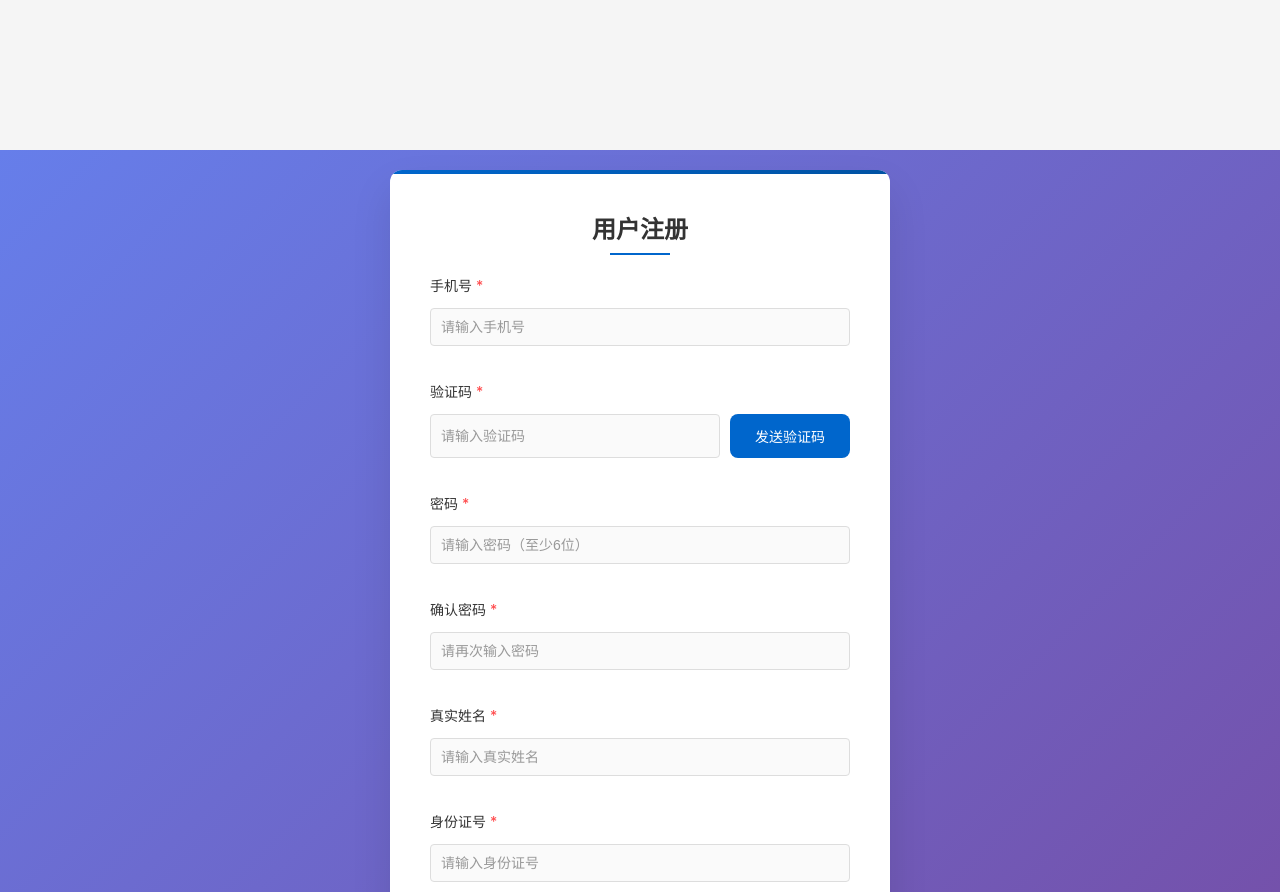
Test case: RegisterPage Component › 应该验证身份证号格式
填写其他必填字段
In the field labelled "手机号": (640, 327) [430, 308, 850, 346], type "13800138000"
In the field labelled "验证码": (575, 436) [430, 414, 720, 458], type "123456"
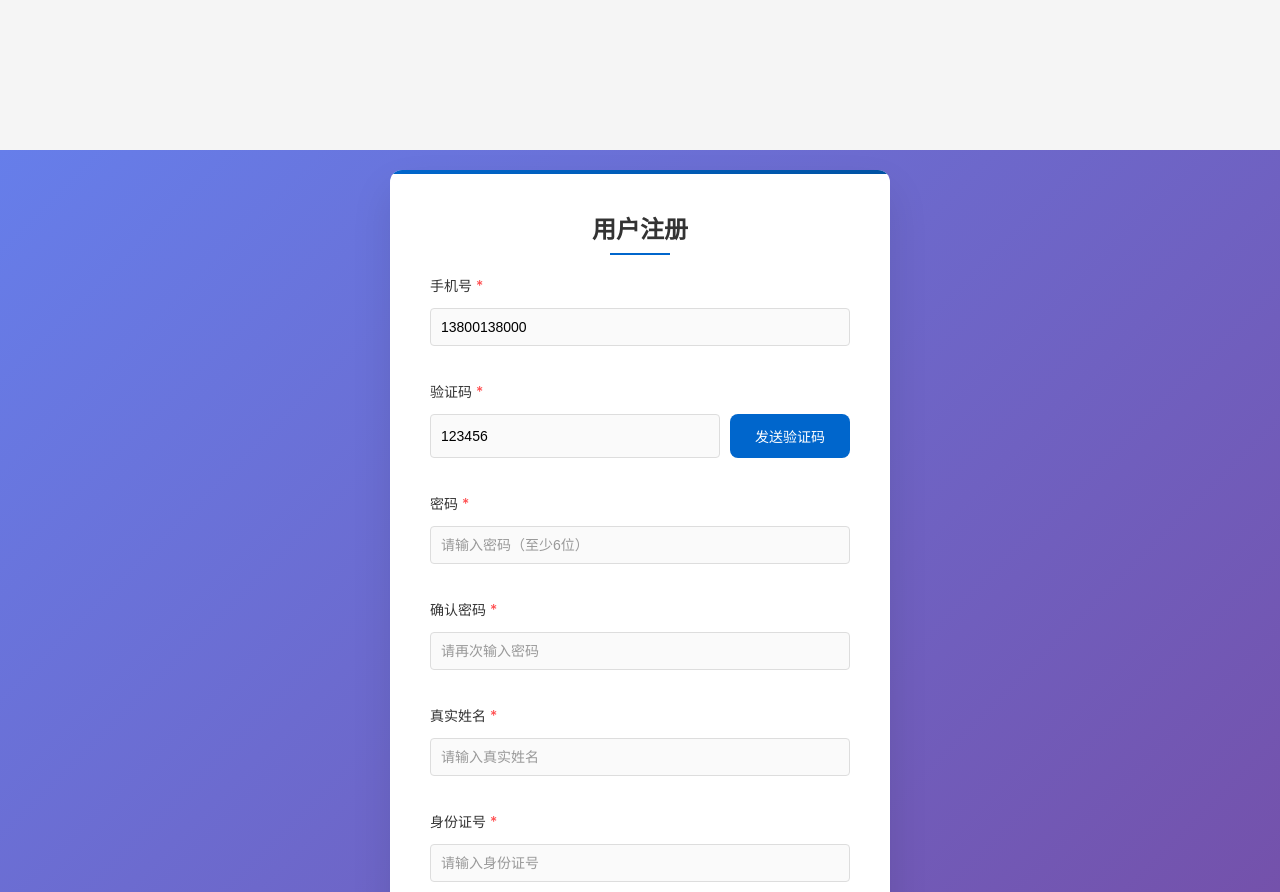
In the password field labelled "密码": (640, 545) [430, 526, 850, 564], type "password123"
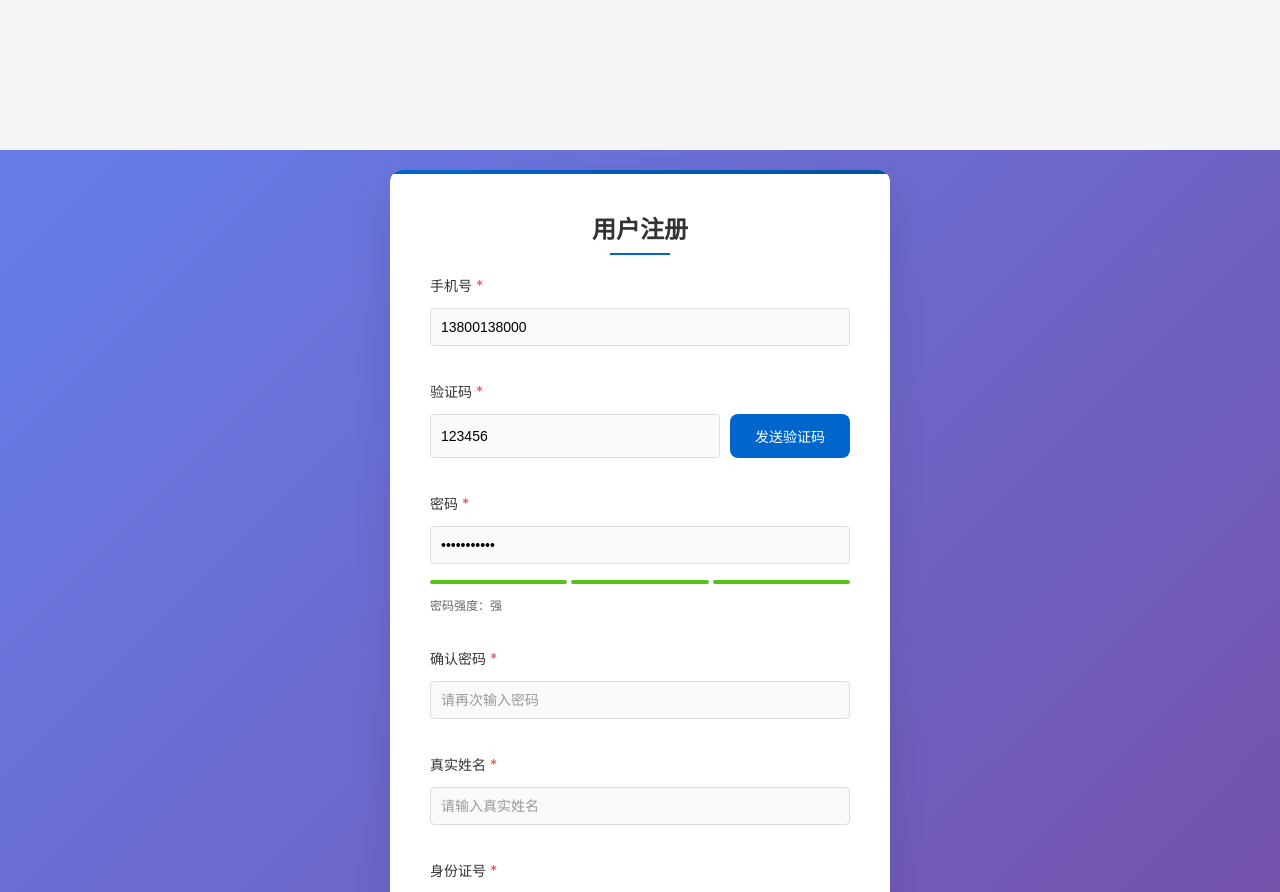
In the password field labelled "确认密码": (640, 700) [430, 681, 850, 719], type "password123"
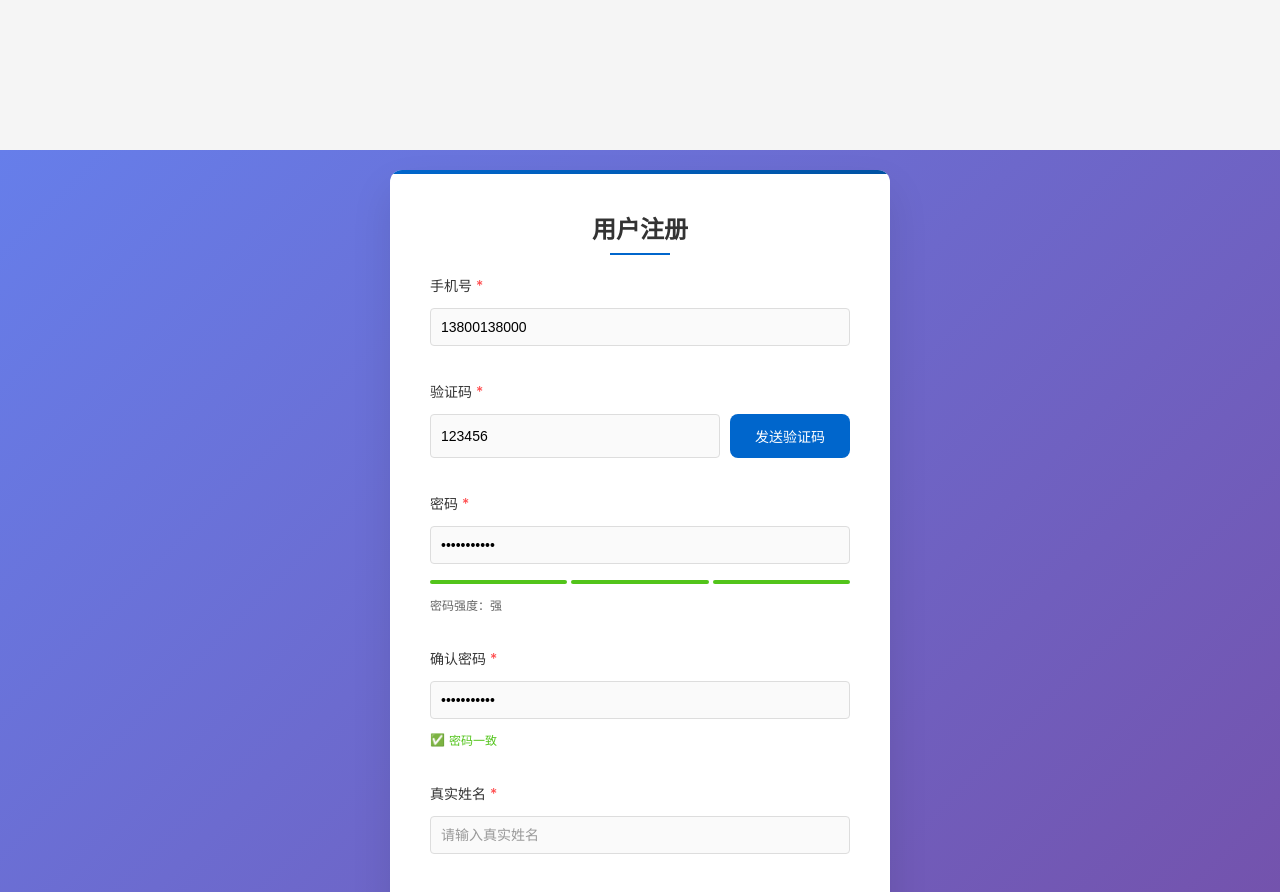
In the field labelled "真实姓名": (640, 835) [430, 816, 850, 854], type "张三"
(page scrolled)
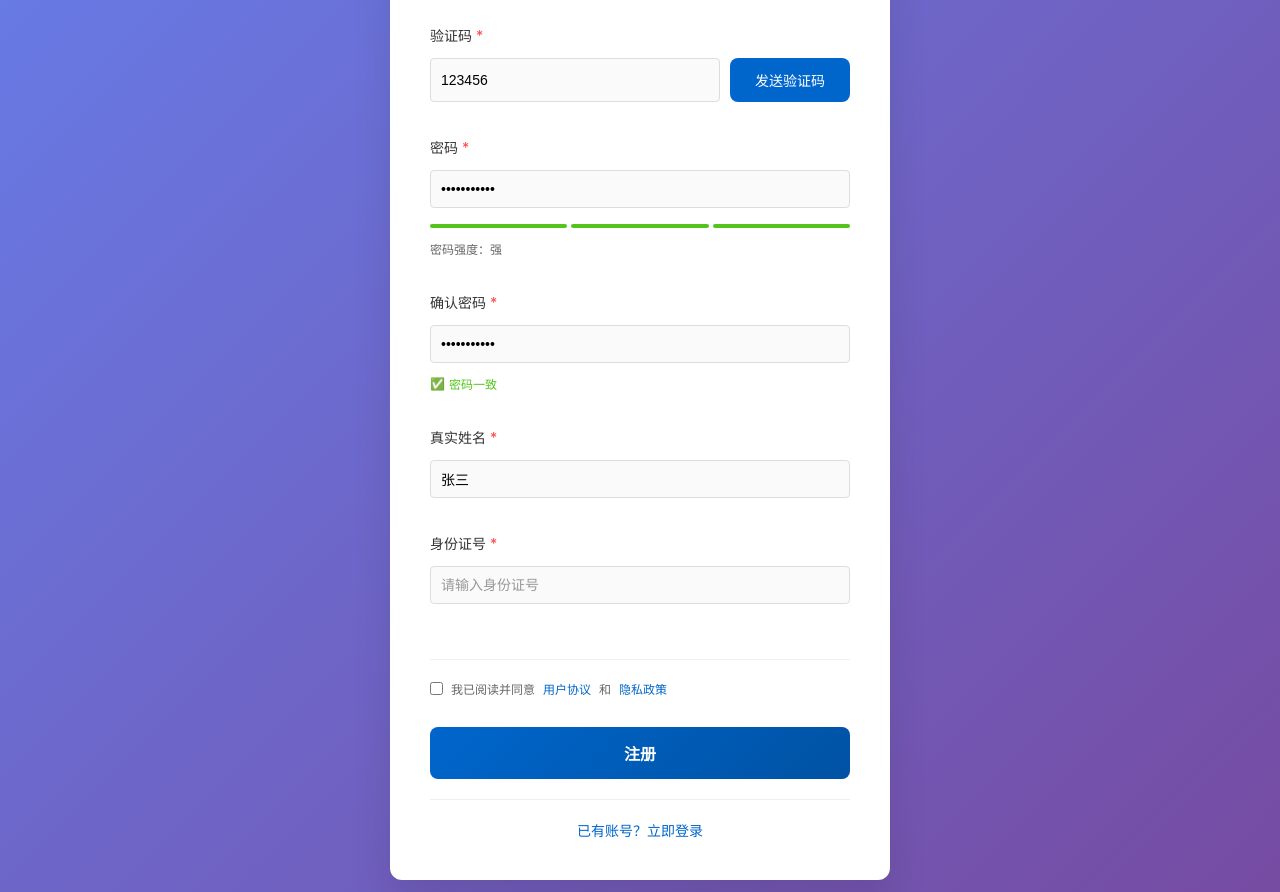
输入无效身份证号
In the field labelled "身份证号": (640, 585) [430, 566, 850, 604], type "123456"
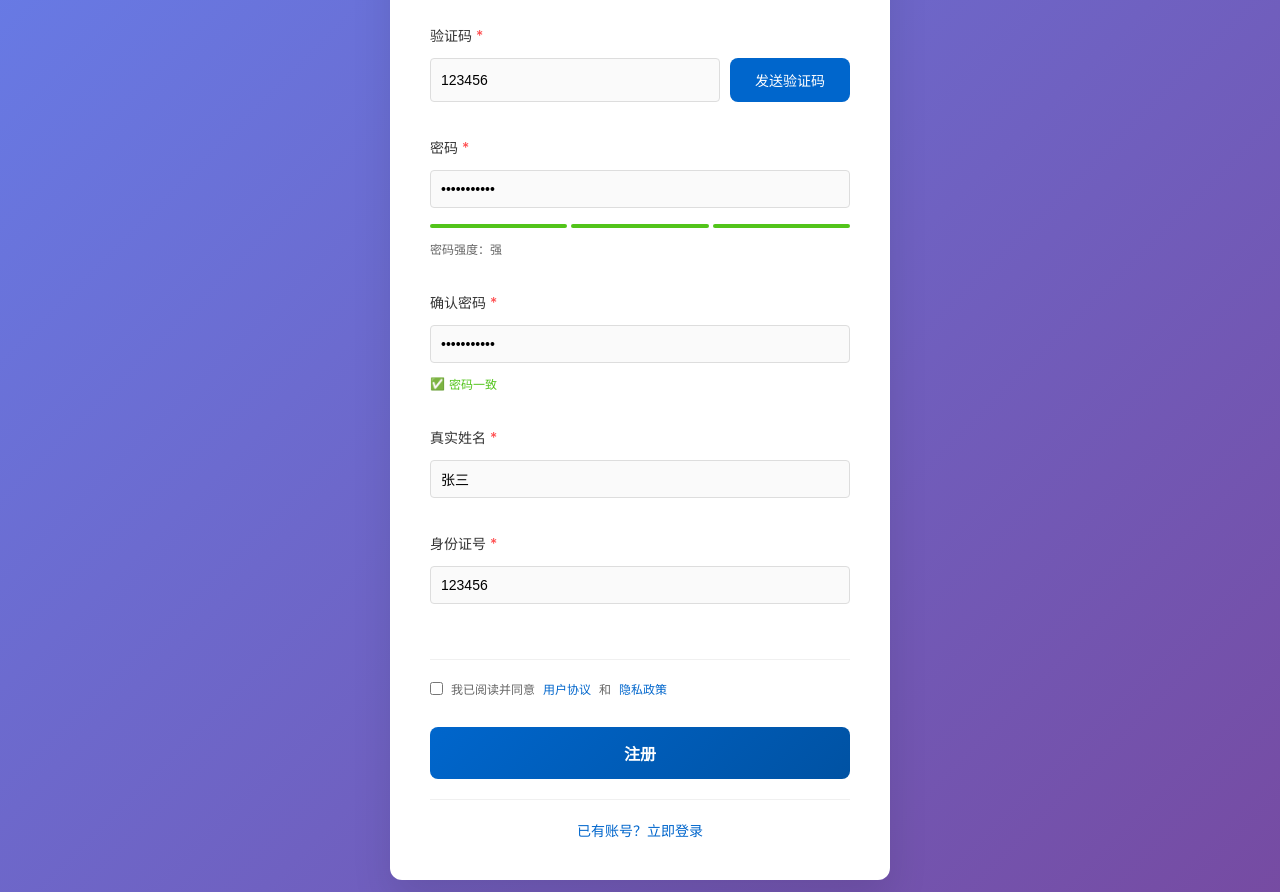
Click the button "注册": (640, 753) [430, 727, 850, 779]
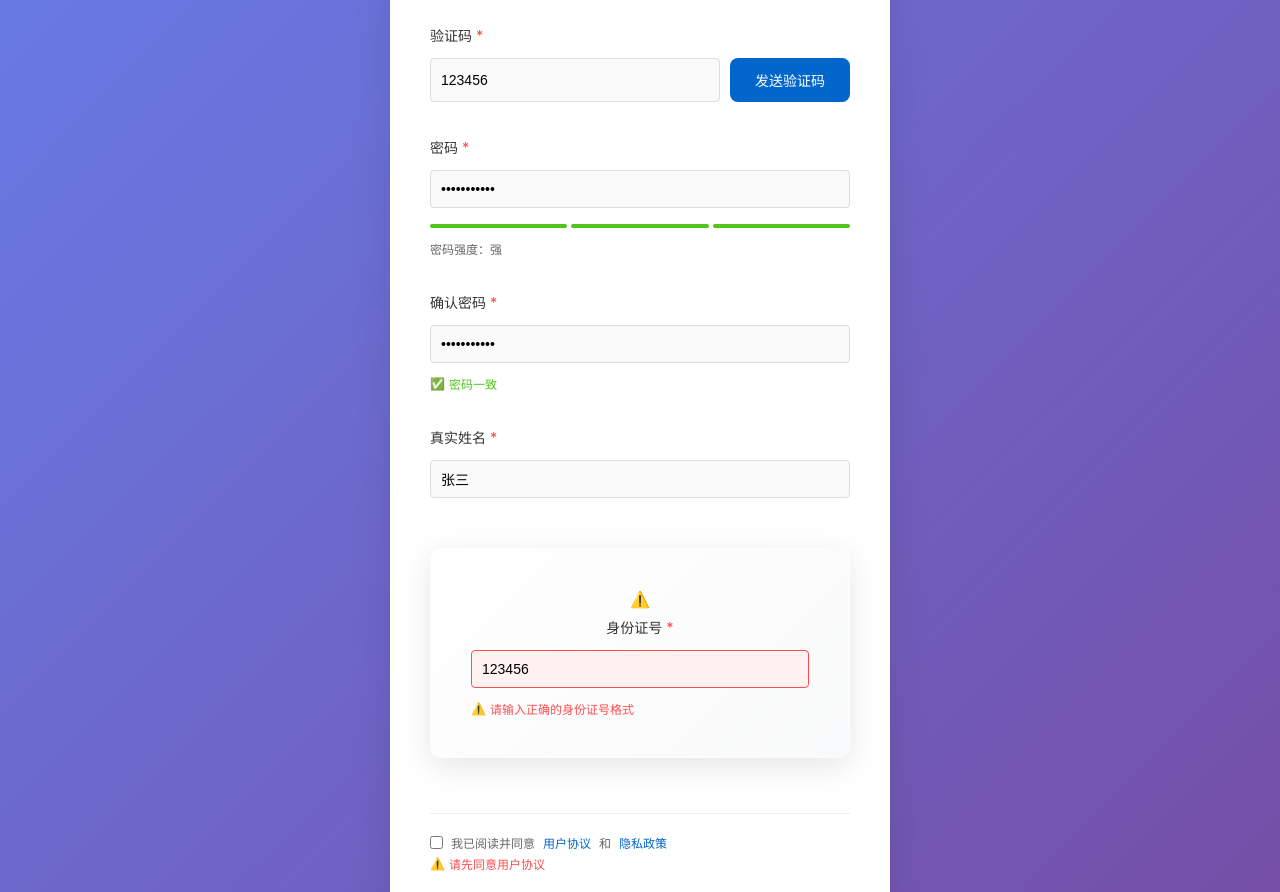
Check: the text "请输入正确的身份证号格式" is shown, box [490, 702, 634, 717]
